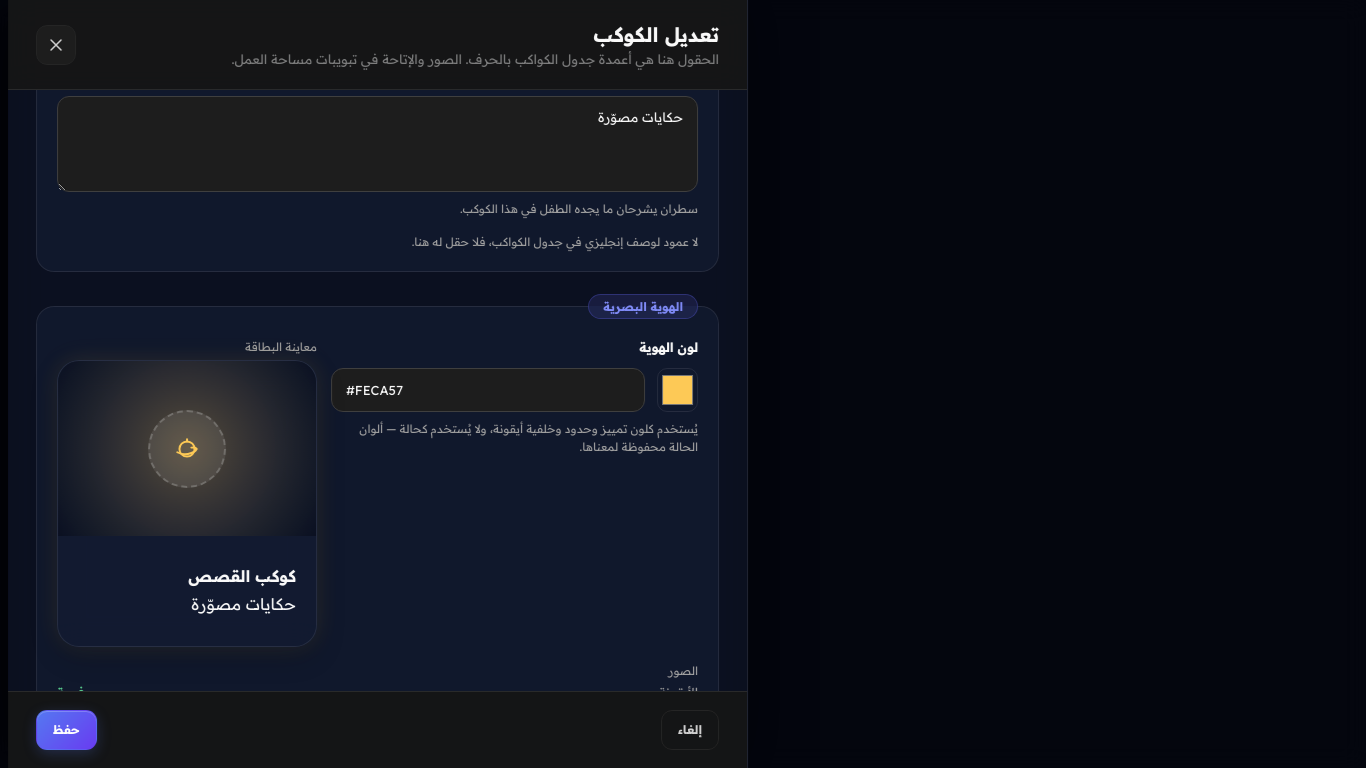
Test: PlanetEditorDrawer › it validates the colour before sending anything
The image size is (1366, 768).
(page scrolled)
// حقلان لقيمة واحدة، ولكلٍّ اسمه: المنتقي وقيمة الـhex.
Replace the text in the field named "قيمة اللون (#RRGGBB)" with "red" at (480, 390), box [323, 368, 637, 412]
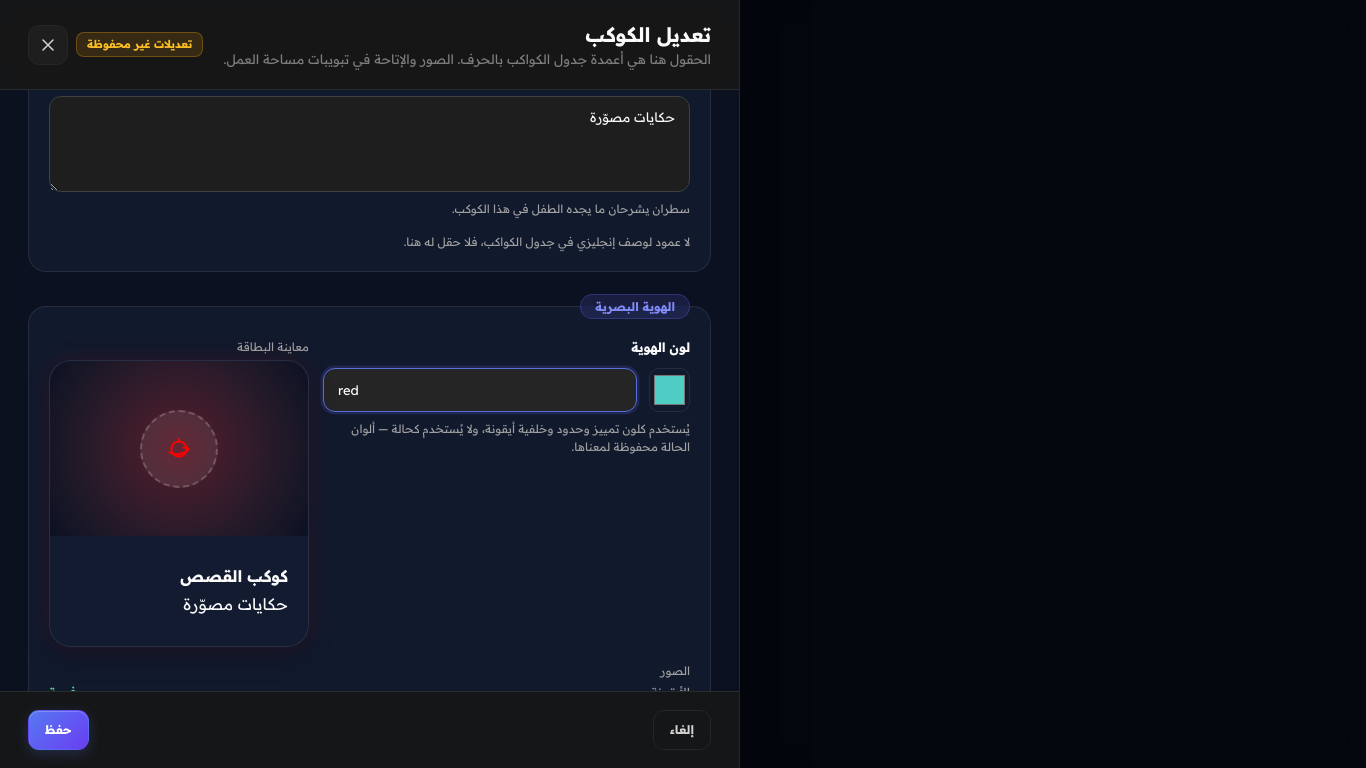
Click the button "حفظ" at (58, 730), box [28, 710, 89, 750]
(page scrolled)
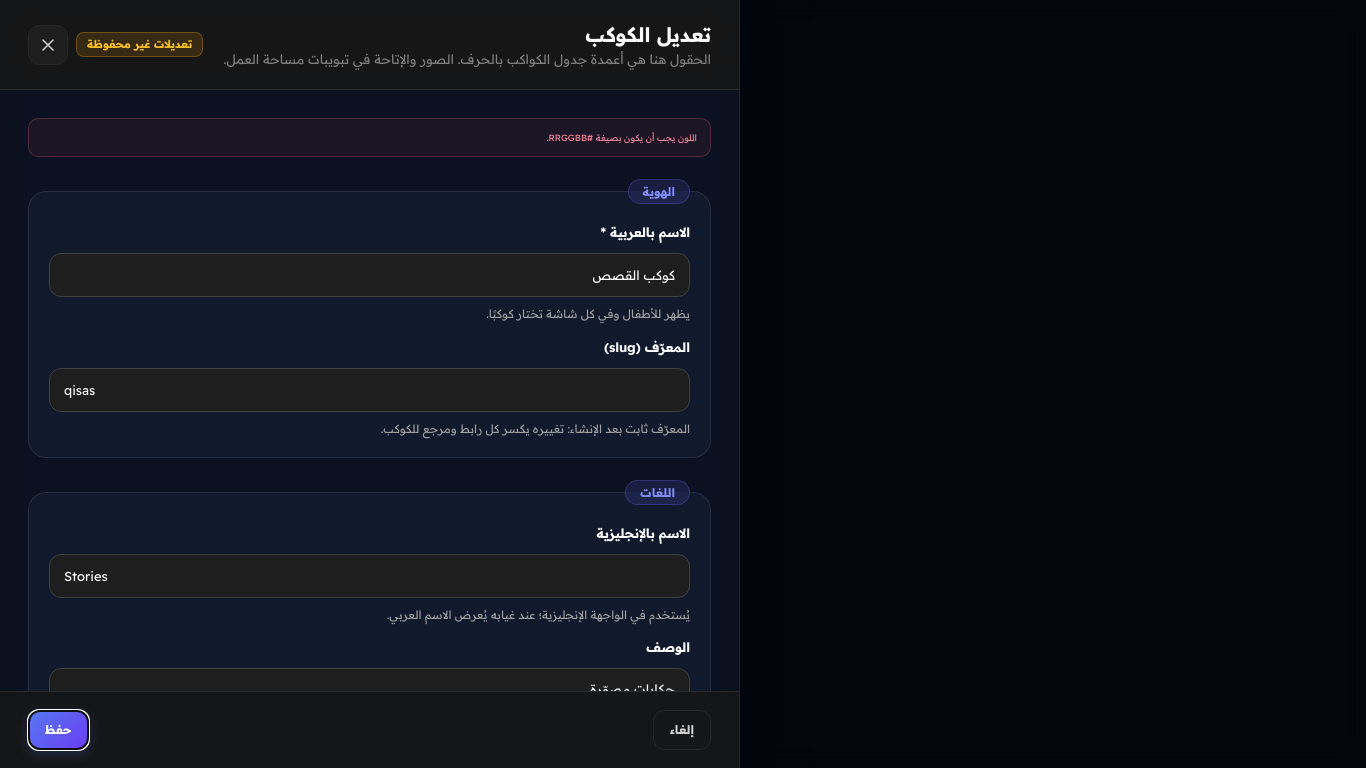
Expected: the message shows "#RRGGBB", [546, 132, 697, 143]
